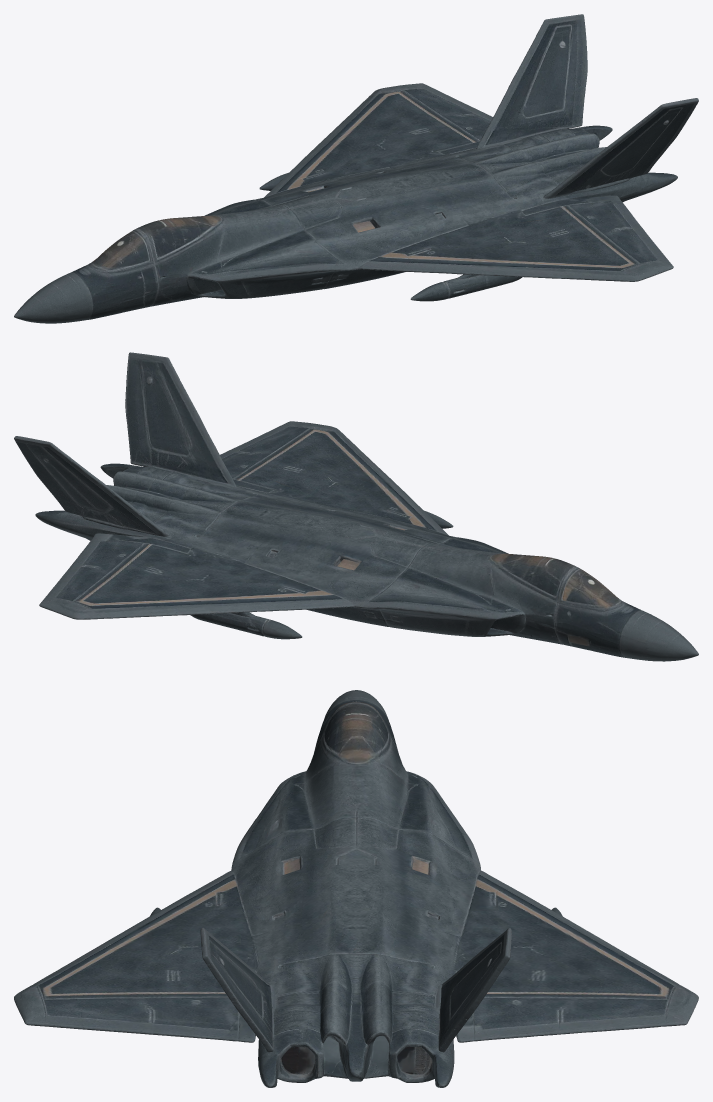
3 views of the same model, one above another, from view 1: azimuth 30°, elevation 25°; view 2: azimuth 150°, elevation 25°; view 3: azimuth 270°, elevation 25° (orthographic). The views are drawn at different scales.
Bounding box in the file's own units: 1.9 × 0.4305 × 1.35.
1 material, 1 textured.
